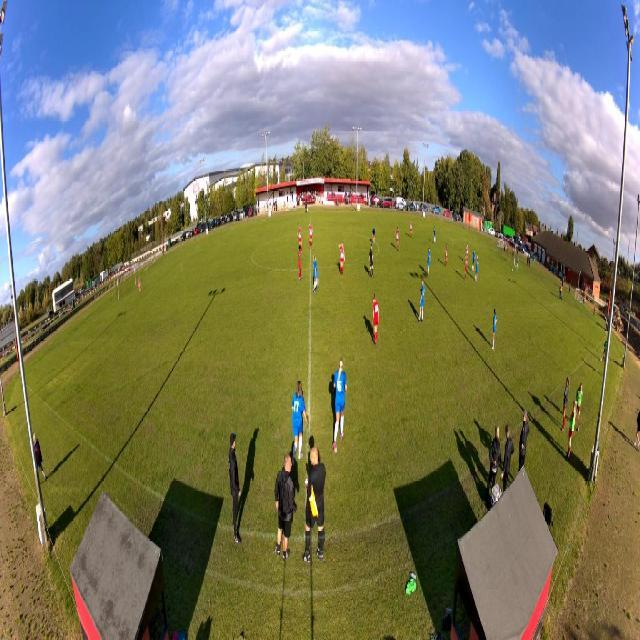ball: (512, 266, 513, 272)
player: (291, 378, 310, 469), (332, 356, 348, 454), (372, 292, 380, 349), (417, 275, 425, 325), (338, 241, 346, 276), (491, 309, 497, 351), (313, 253, 319, 295), (298, 244, 303, 282), (297, 223, 303, 254), (369, 243, 374, 280), (427, 246, 432, 277), (474, 254, 479, 282), (308, 222, 313, 249), (471, 248, 476, 273), (395, 227, 400, 251), (464, 254, 468, 282), (466, 243, 470, 264), (433, 226, 437, 245), (138, 276, 142, 295), (516, 255, 520, 274), (445, 243, 448, 268), (372, 227, 376, 244), (410, 220, 413, 239)
